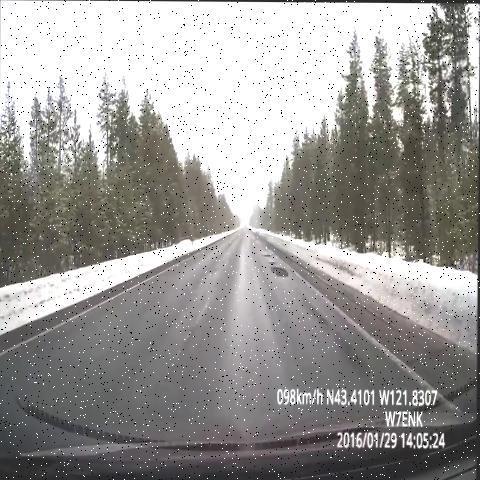pothole: (270, 263, 290, 281), (260, 246, 276, 260), (265, 254, 282, 267)
